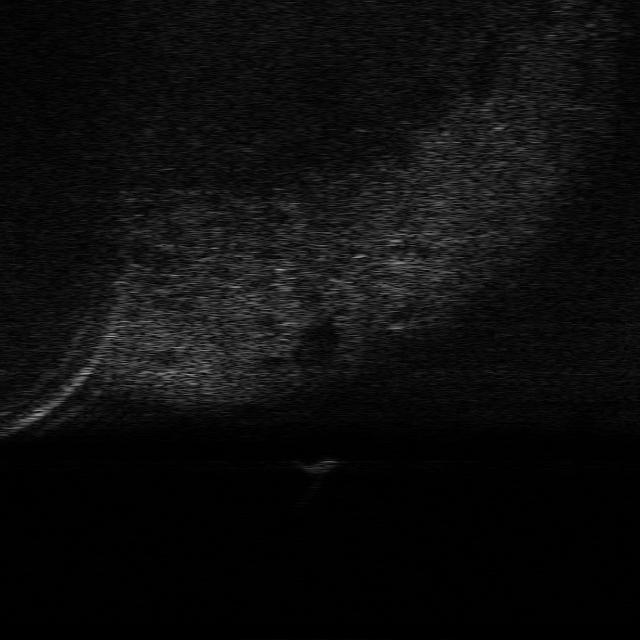cube: (289, 453, 346, 475)
